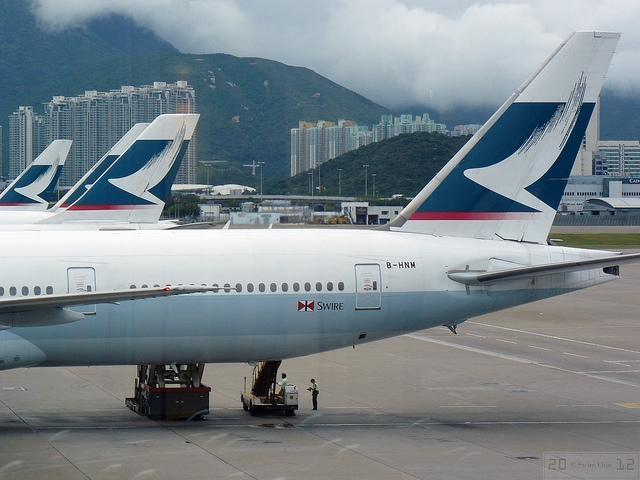truck: (310, 212, 338, 224), (324, 218, 336, 223)
